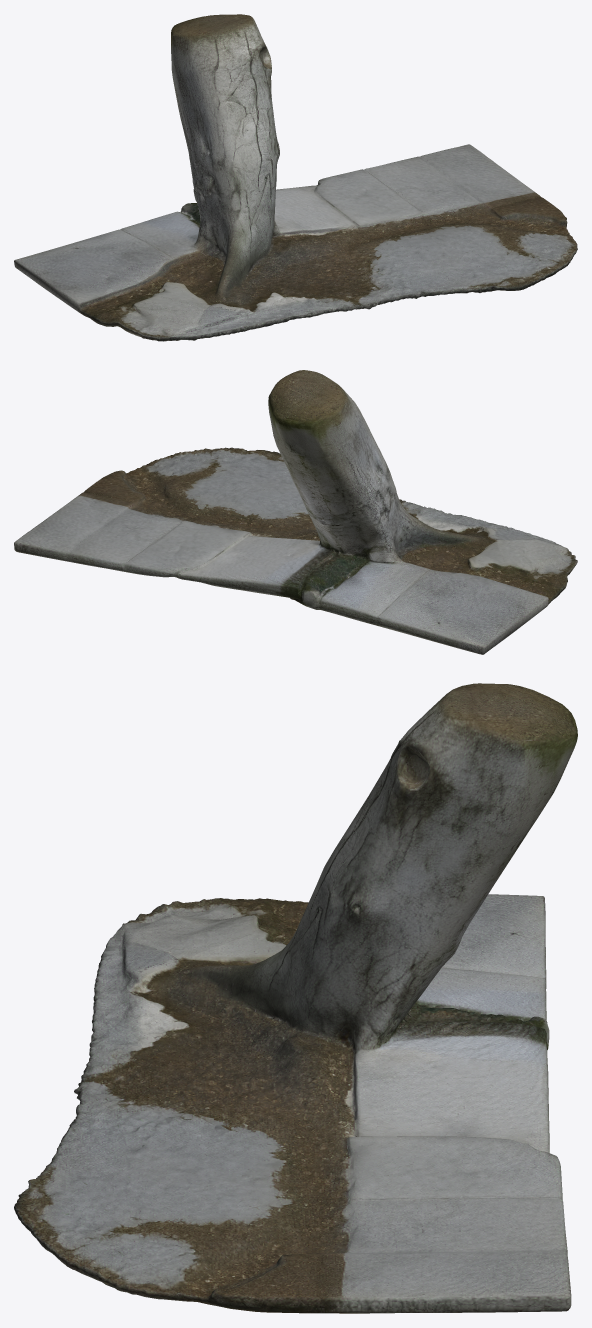
File: uneven_6.glb
3 renders of one model, top to bottom at view 1: azimuth 30°, elevation 25°; view 2: azimuth 150°, elevation 25°; view 3: azimuth 270°, elevation 25°, orthographic. The views are drawn at different scales.
Visible parts, largest first — view 1: Mesh_0; view 2: Mesh_0; view 3: Mesh_0.
Part boxes in pixels (x1=…): Mesh_0: x1=14, y1=14, x2=577, y2=341; Mesh_0: x1=14, y1=370, x2=577, y2=654; Mesh_0: x1=14, y1=683, x2=577, y2=1313.
Size of the model in its own units: 1.91 by 0.8637 by 1.15.
Materials: 1 (1 with a texture image).
